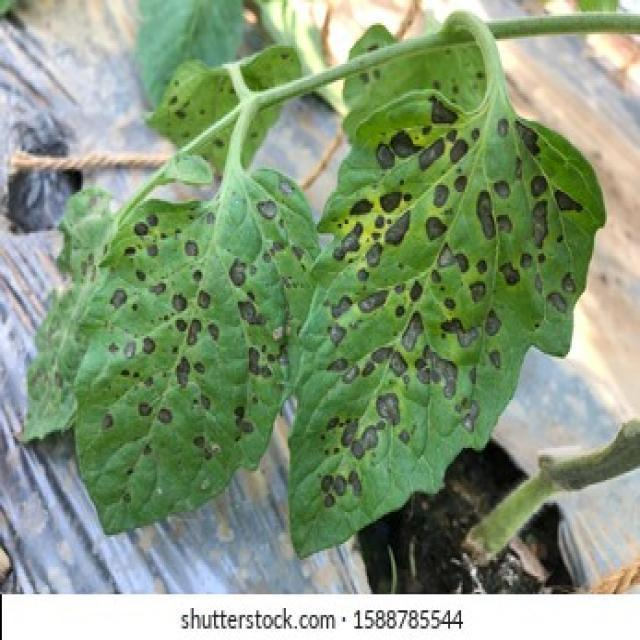Septoria: (304, 116, 568, 515), (90, 192, 284, 449)
